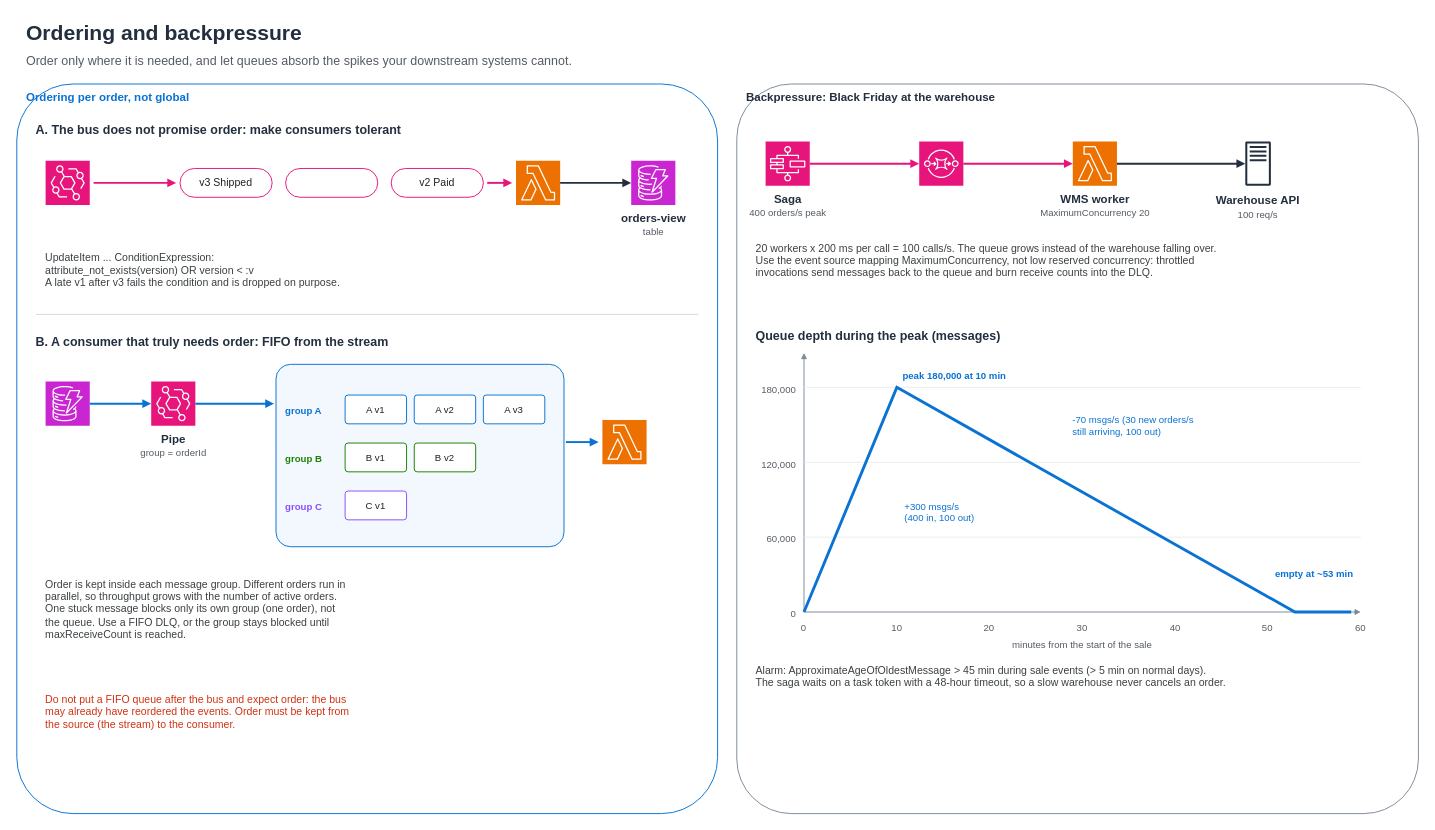
Image size: 1435x830. Some labels were removed from this diagram. Each missing label, with the box of its shape:
DynamoDB stream: (45, 381, 90, 426)
ERP sync one batch per group at a time: (601, 419, 647, 464)
erp-sync.fifo (SQS FIFO): (275, 363, 564, 547)
EventBridge orders bus: (45, 160, 90, 205)
Projection Lambda: (515, 160, 560, 205)
v1 Placed: (285, 168, 378, 197)
wms-requests buffer, 4-day retention: (918, 141, 963, 186)
